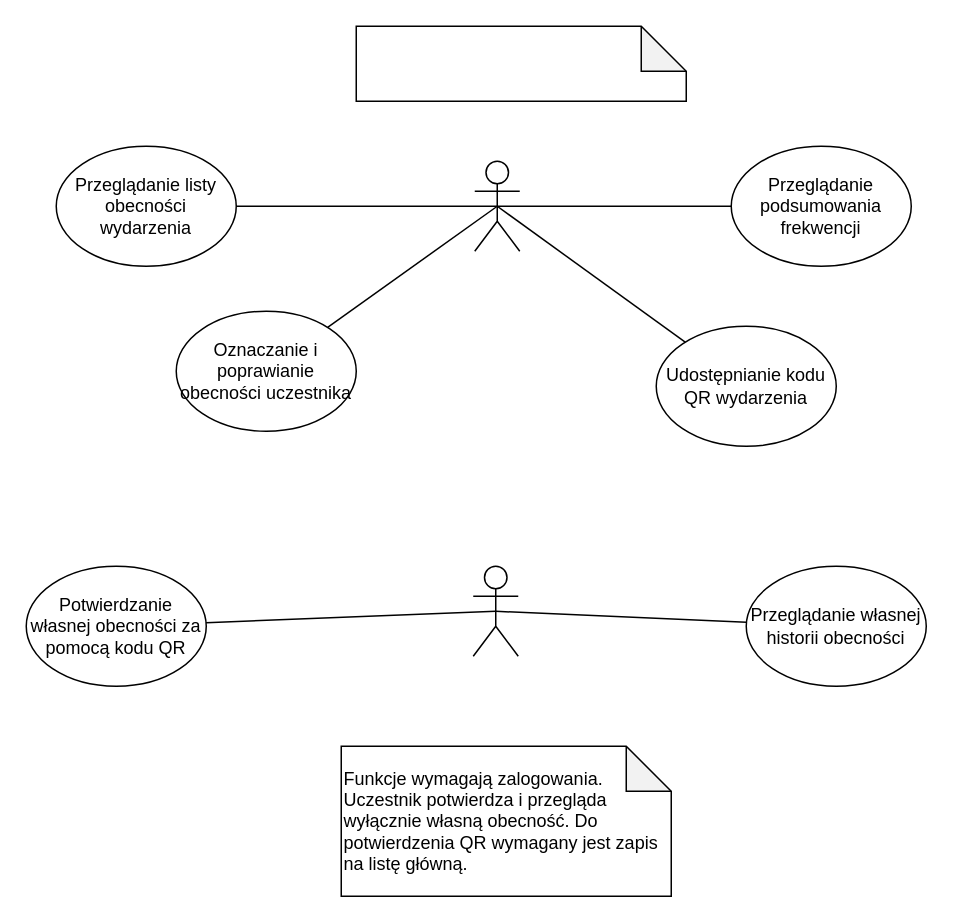
This 953x923 diagram has some shape labels left out. Each missing label, with the centre of its shape:
"Organizator wydarzenia" belongs at (x=496, y=205).
"Organizator zarządza obecnością jedynie na swoich wydarzeniach." belongs at (x=520, y=63).
"Uczestnik" belongs at (x=495, y=610).
